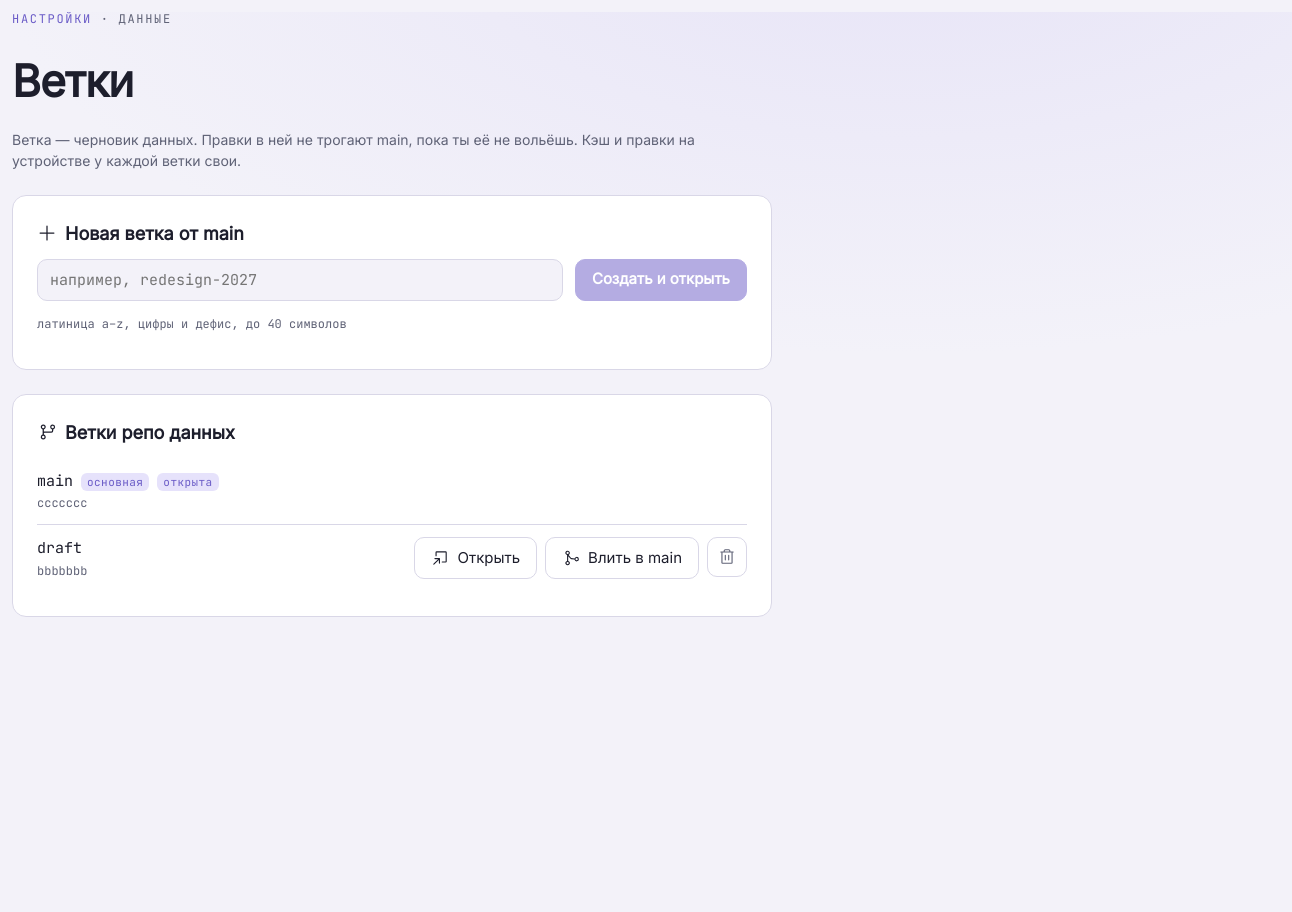
Scenario: экран «Ветки»: «Влить в main» › влито без замечаний — «влита в main»
Click the button "Влить в main" at (622, 558), box [545,537,699,579]
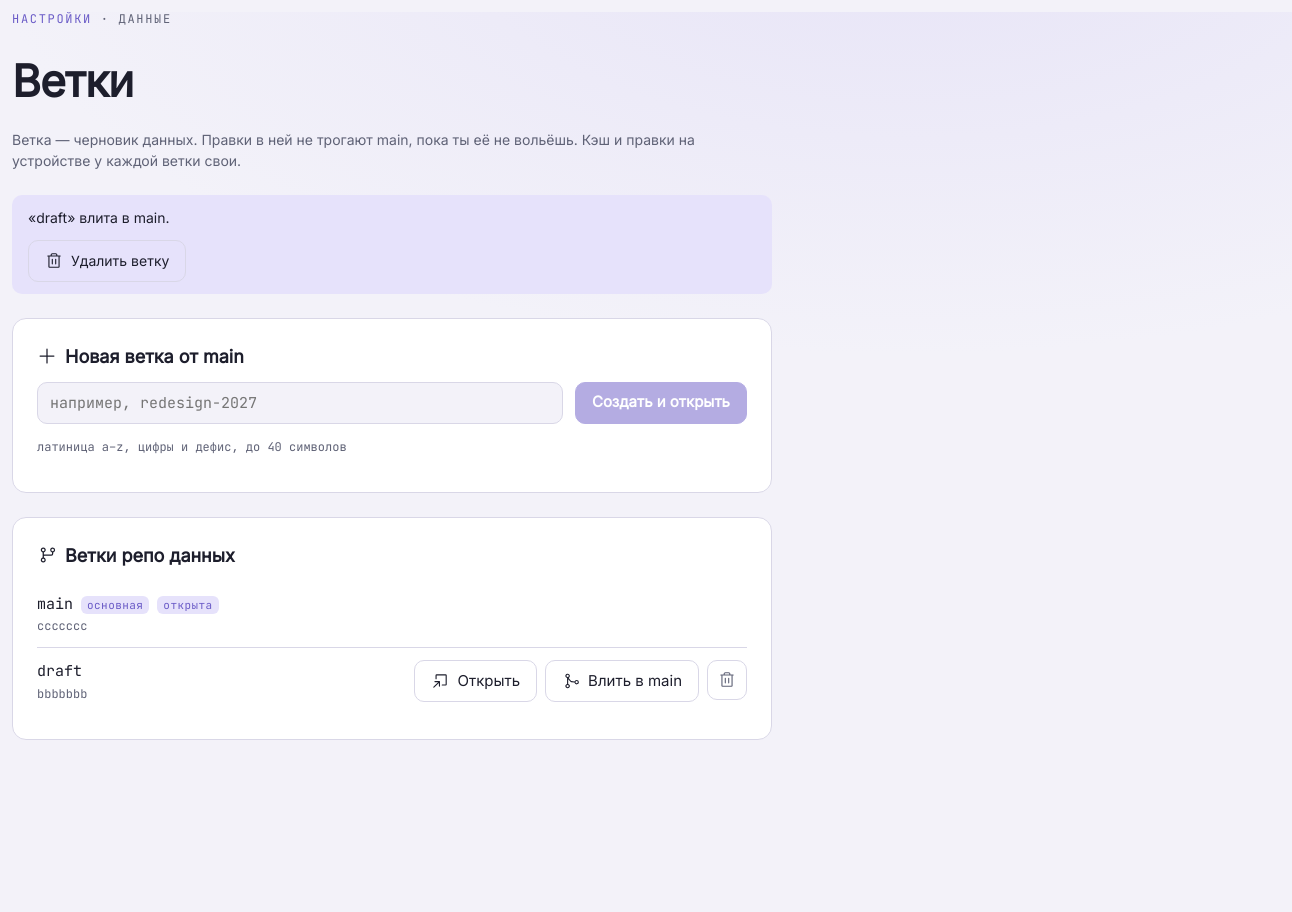
Now the message "«draft» влита в main. Удалить ветку" is shown, box [12,195,772,294]
